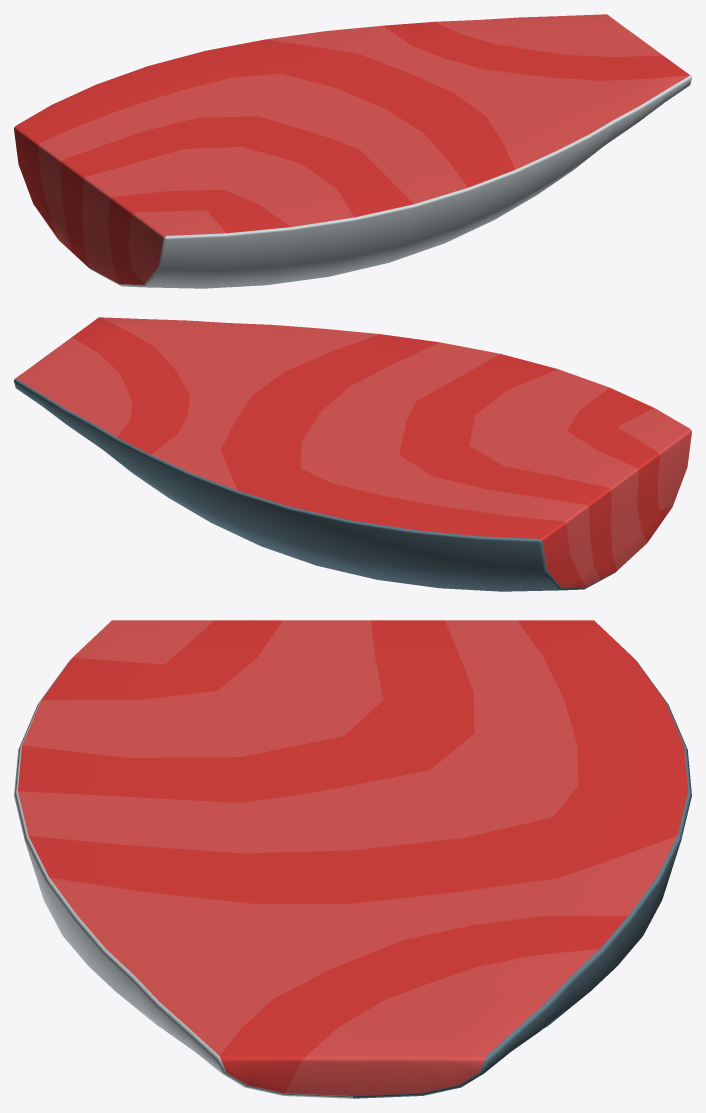
The model's file is Tuna_1_Fillet_1.fbx.
3 views of the same model, one above another, from view 1: azimuth 30°, elevation 25°; view 2: azimuth 150°, elevation 25°; view 3: azimuth 270°, elevation 25° (orthographic). The views are drawn at different scales.
Visible parts, largest first — view 1: Tuna_1_Fillet_1; view 2: Tuna_1_Fillet_1; view 3: Tuna_1_Fillet_1.
Boxes of the visible parts, x1,y1,x2,y2 form: Tuna_1_Fillet_1: (14, 14, 691, 288); Tuna_1_Fillet_1: (14, 317, 691, 591); Tuna_1_Fillet_1: (14, 620, 691, 1098).
Size of the model in its own units: 68.79 by 12.43 by 44.85.
